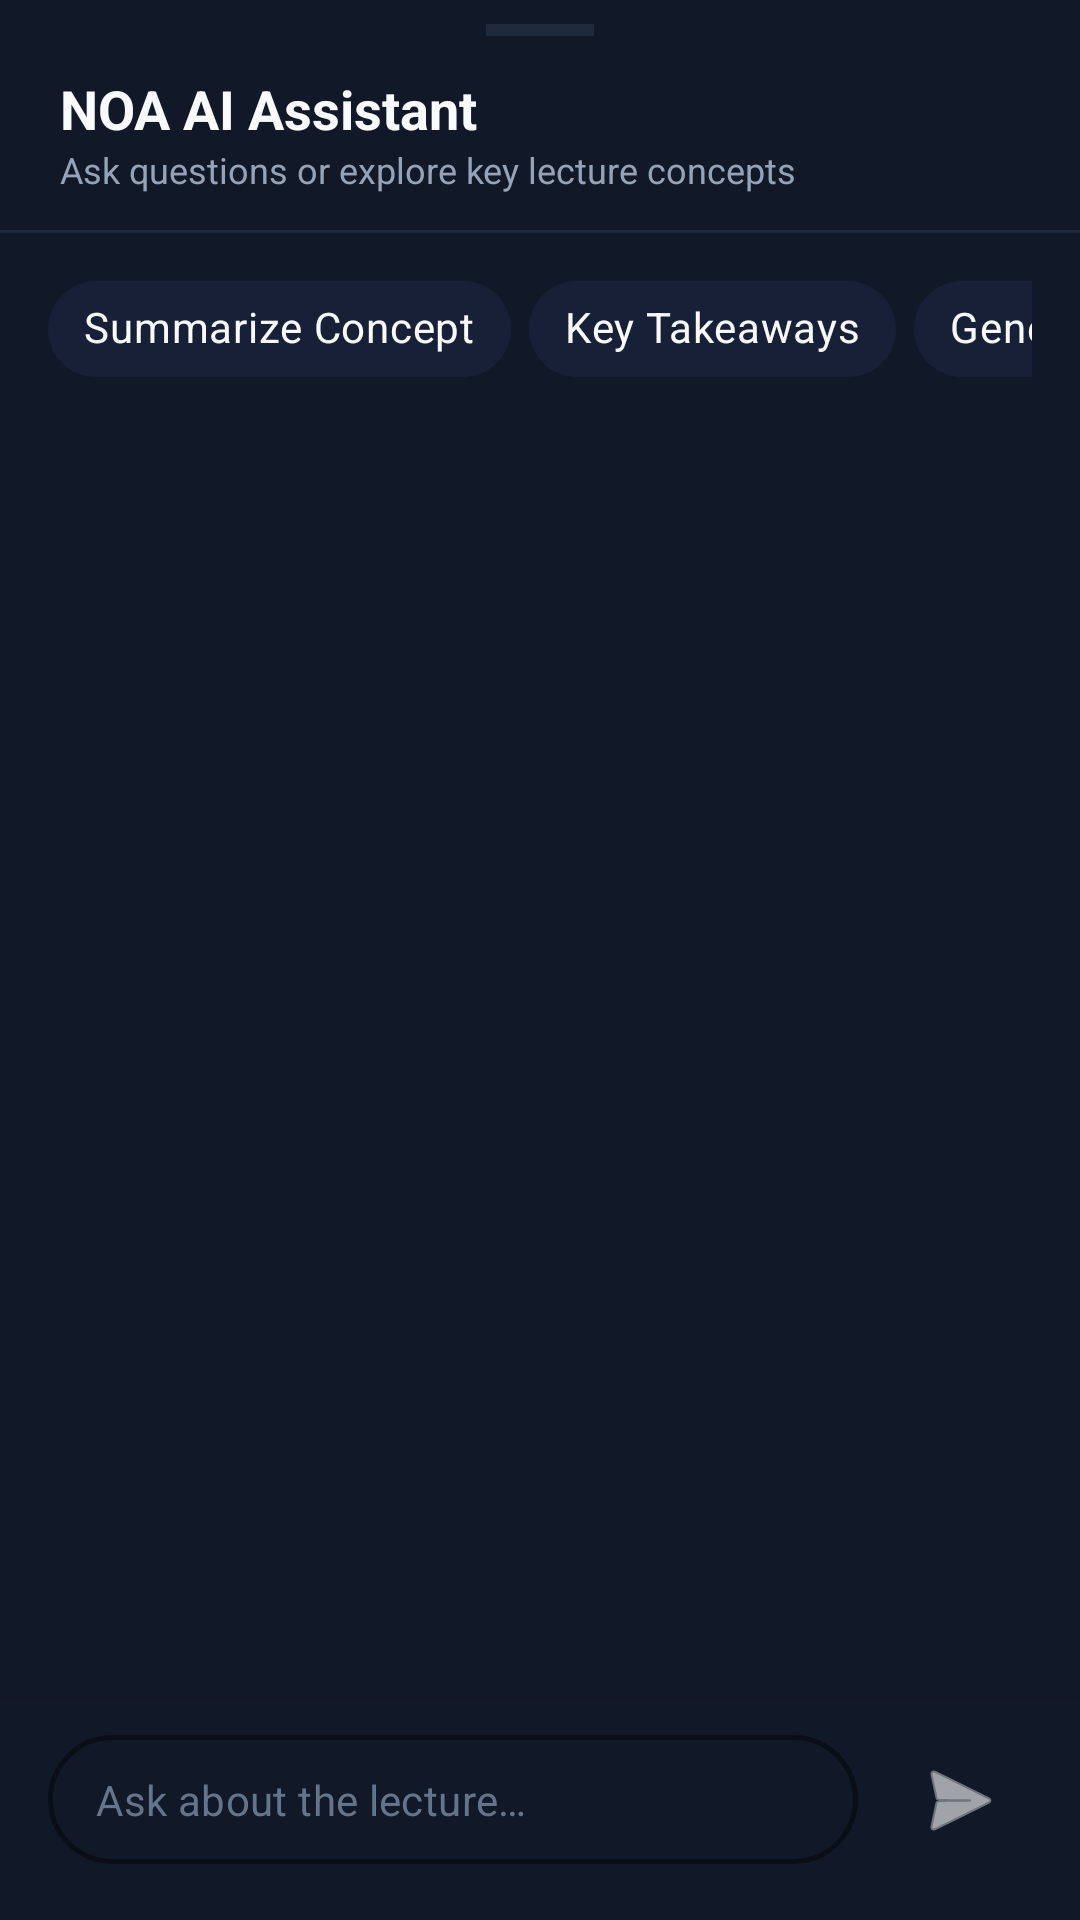

Icon bounding boxes for this 1080 x 1920 phone screenshot, format BBox(x1, y1, x2, y2):
Send Message: BBox(930, 1770, 992, 1831)
